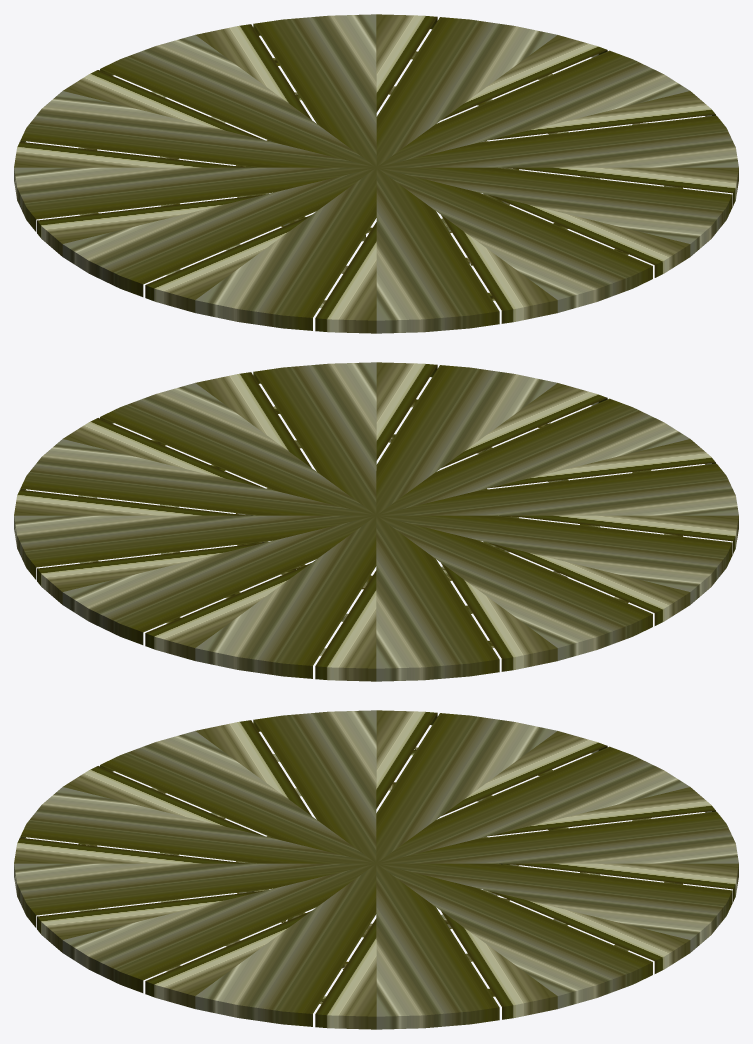
3 views of the same model, one above another, from view 1: azimuth 30°, elevation 25°; view 2: azimuth 150°, elevation 25°; view 3: azimuth 270°, elevation 25° (orthographic).
Visible parts, largest first — view 1: SM_Tin_Ore_Large_01_LOD0; view 2: SM_Tin_Ore_Large_01_LOD0; view 3: SM_Tin_Ore_Large_01_LOD0.
Boxes of the visible parts, x1,y1,x2,y2 form: SM_Tin_Ore_Large_01_LOD0: (14, 14, 738, 333); SM_Tin_Ore_Large_01_LOD0: (14, 362, 738, 681); SM_Tin_Ore_Large_01_LOD0: (14, 710, 738, 1029).
Size of the model in its own units: 12.52 by 0.246 by 12.52.
